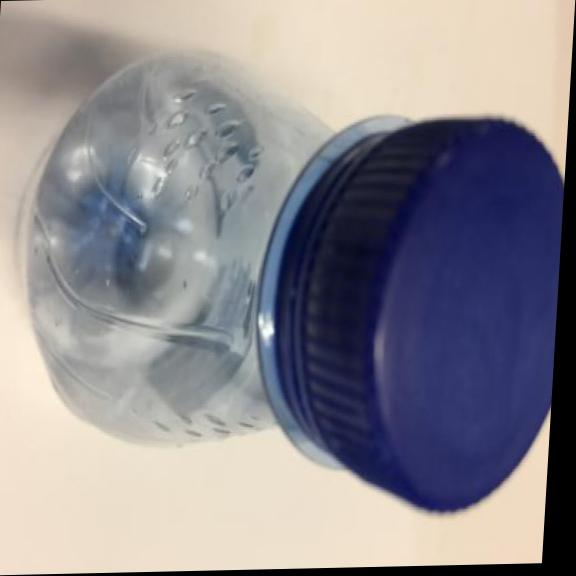Plastik: (254, 96, 569, 526), (4, 42, 299, 476)
